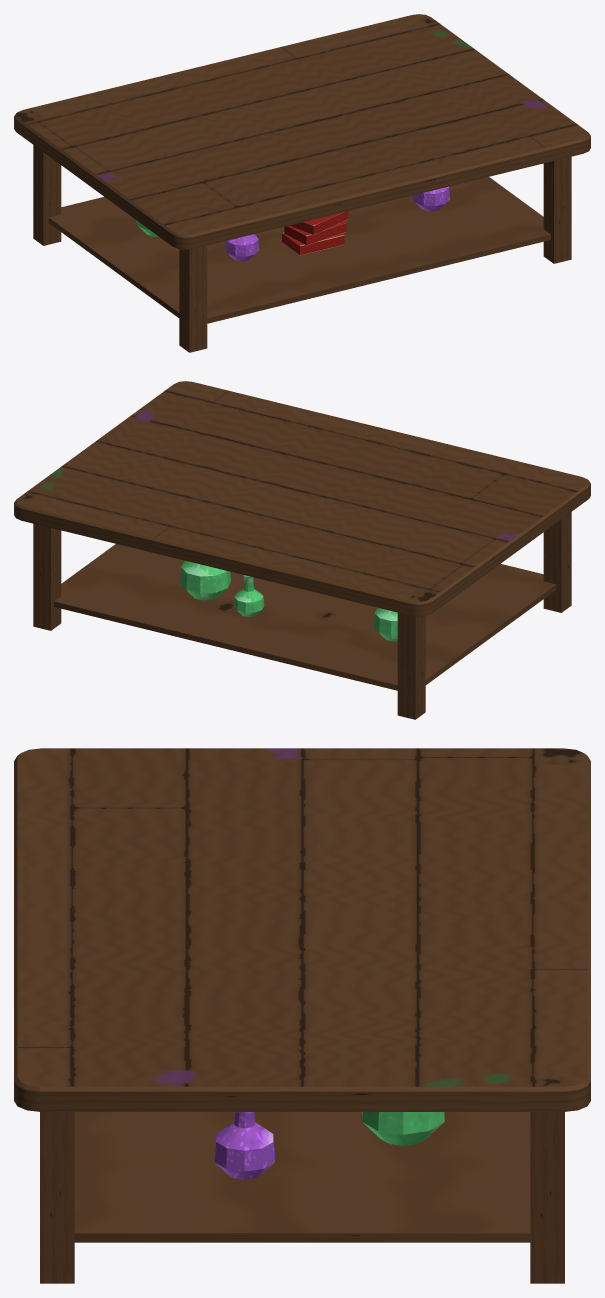
The model's file is Table_Alchemy.fbx.
3 renders of one model, top to bottom at view 1: azimuth 30°, elevation 25°; view 2: azimuth 150°, elevation 25°; view 3: azimuth 270°, elevation 25°, orthographic. The views are drawn at different scales.
Visible parts, largest first — view 1: Table_Alchemy; view 2: Table_Alchemy; view 3: Table_Alchemy.
Part boxes in pixels (left/top/right/bottom): Table_Alchemy: left=14, top=14, right=590, bottom=352; Table_Alchemy: left=14, top=381, right=590, bottom=719; Table_Alchemy: left=14, top=748, right=590, bottom=1283.
Bounding box in the file's own units: 5.6 × 1.6 × 4.
Materials: 1 (1 with a texture image).
